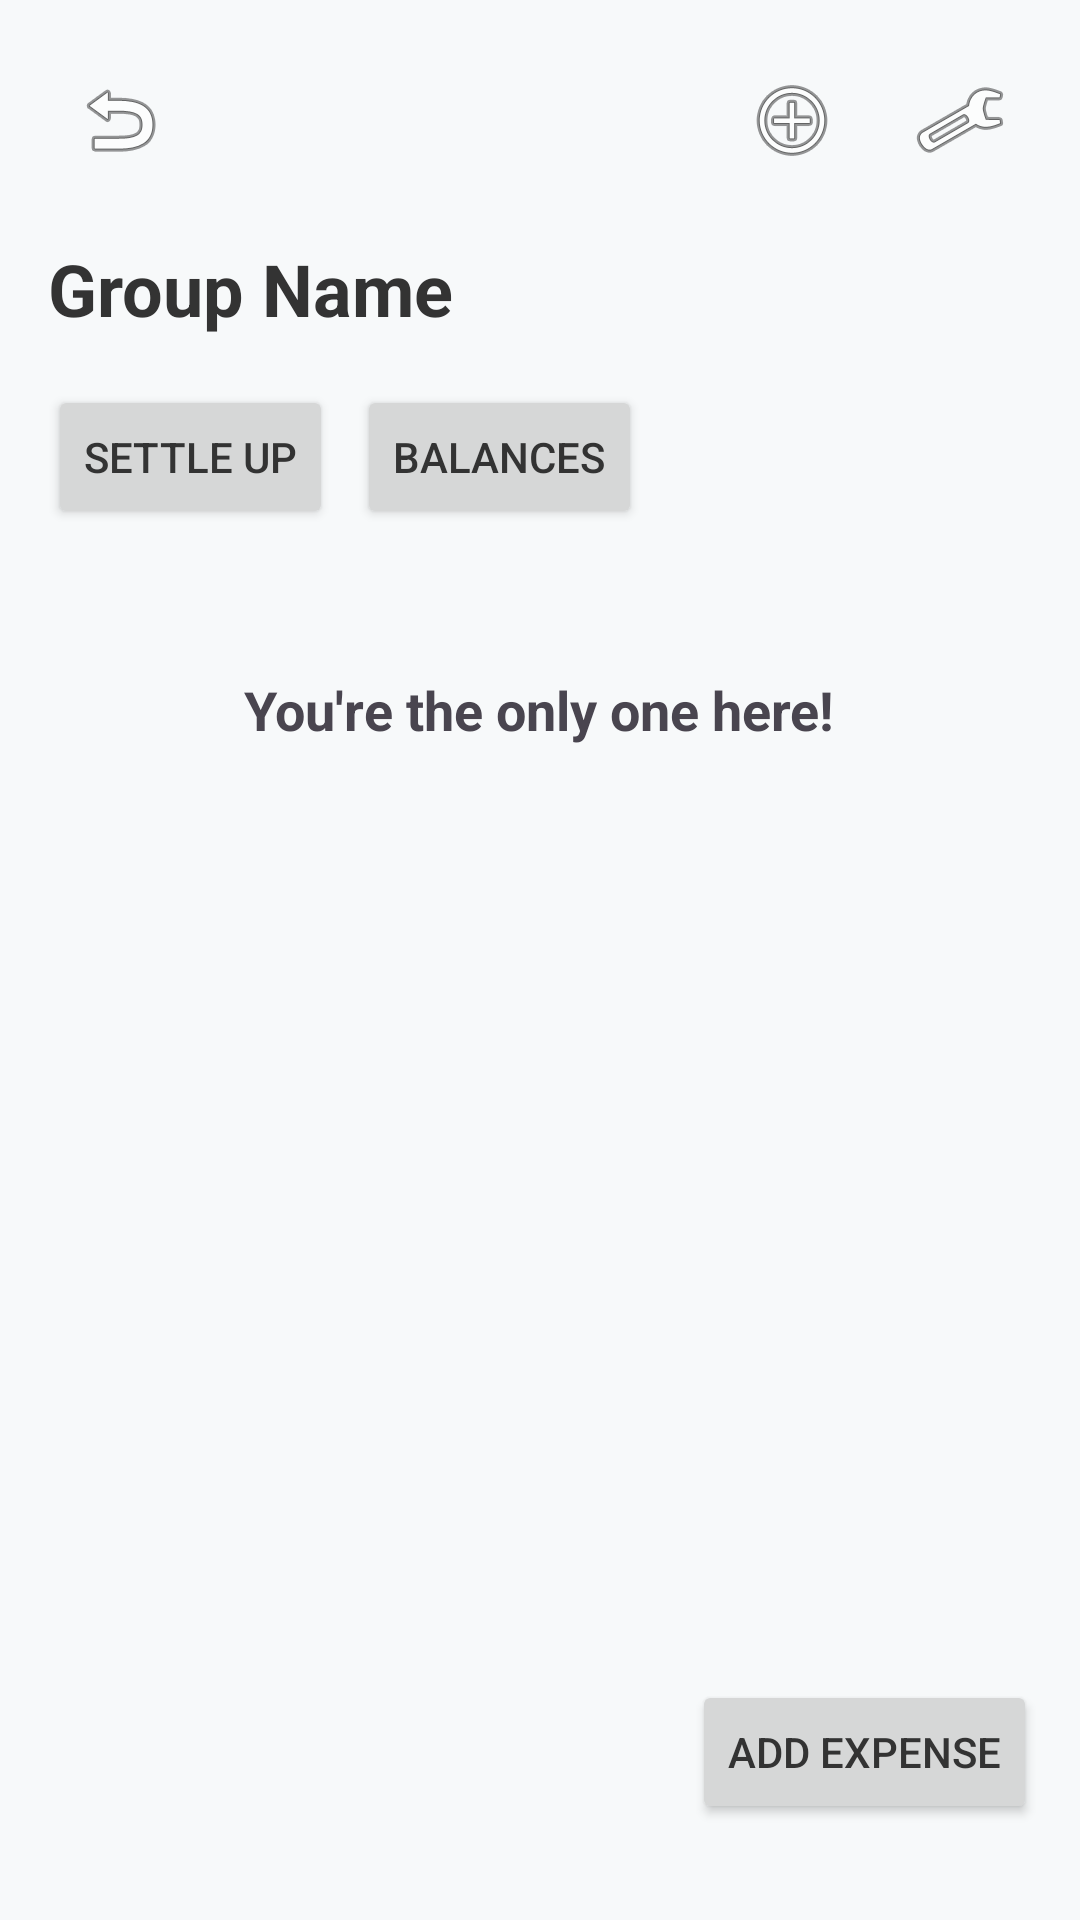

Locate icon controls on the screen. Image size 1080px x 1920px, boxes as [left=x1, top=y1, right=x2, bottom=y2].
Add Member: [left=756, top=85, right=828, bottom=156]
Back: [left=87, top=89, right=156, bottom=152]
Settings: [left=917, top=87, right=1003, bottom=153]
